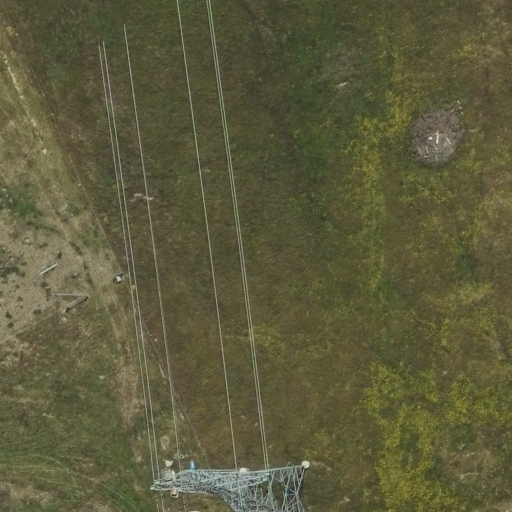TT: (152, 450, 304, 512)
